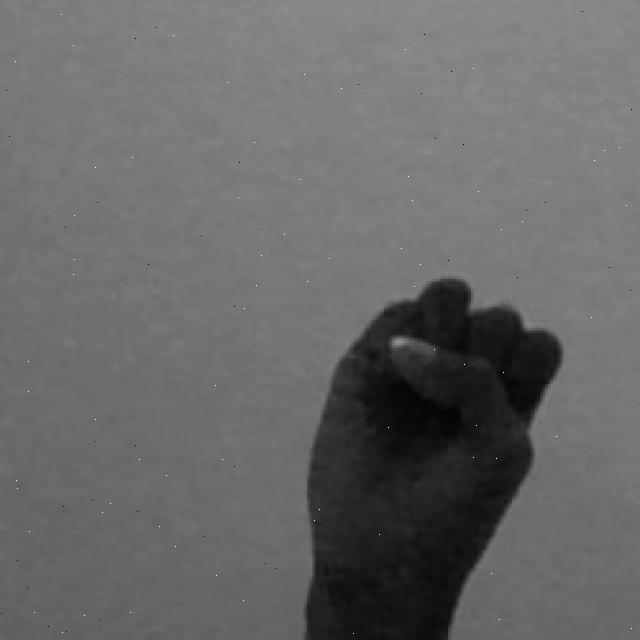S: (298, 273, 566, 640)
